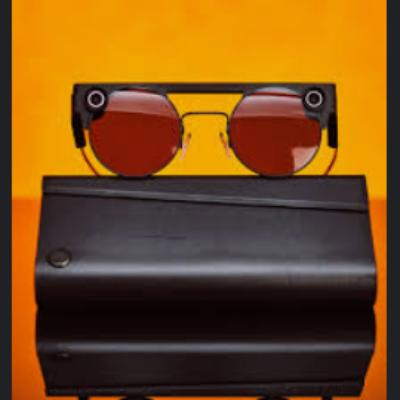glasses: (69, 79, 344, 182)
